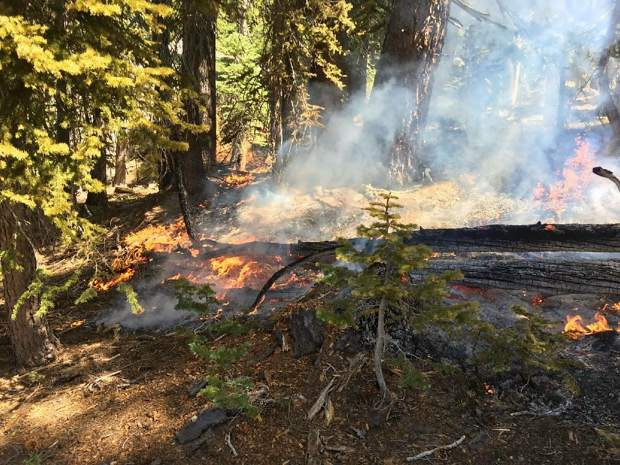fire: (74, 190, 620, 368)
